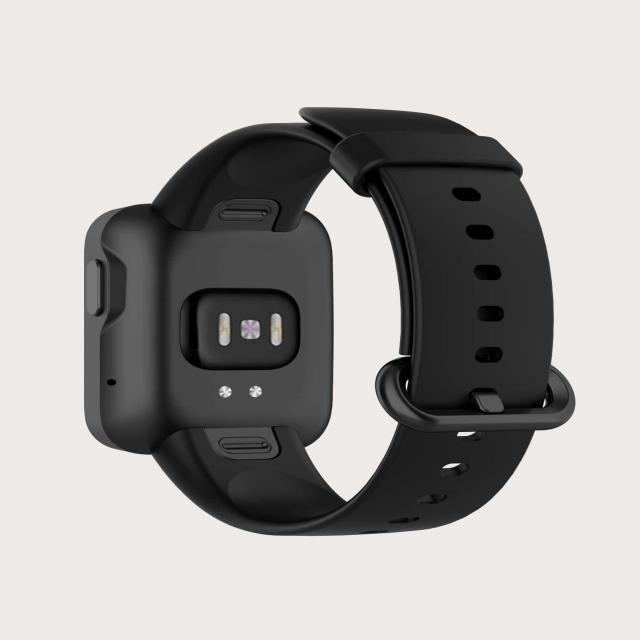bracelet: (10, 80, 640, 546)
